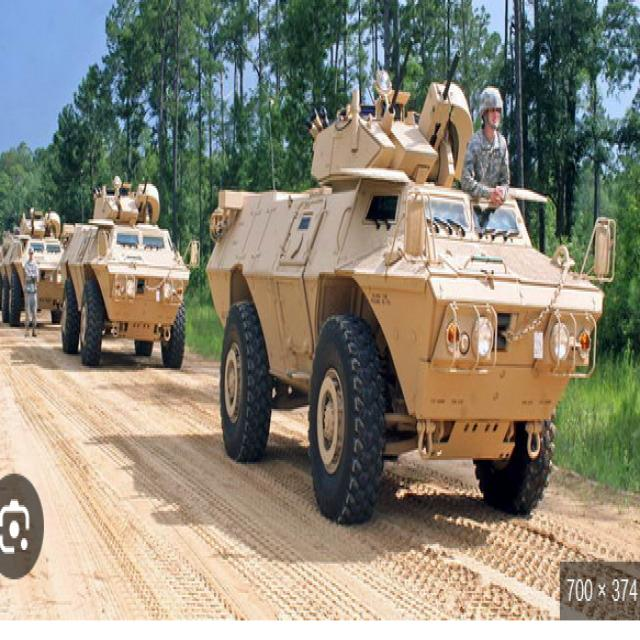MIL_APC: (210, 101, 606, 525), (58, 183, 203, 376), (0, 200, 76, 329)
